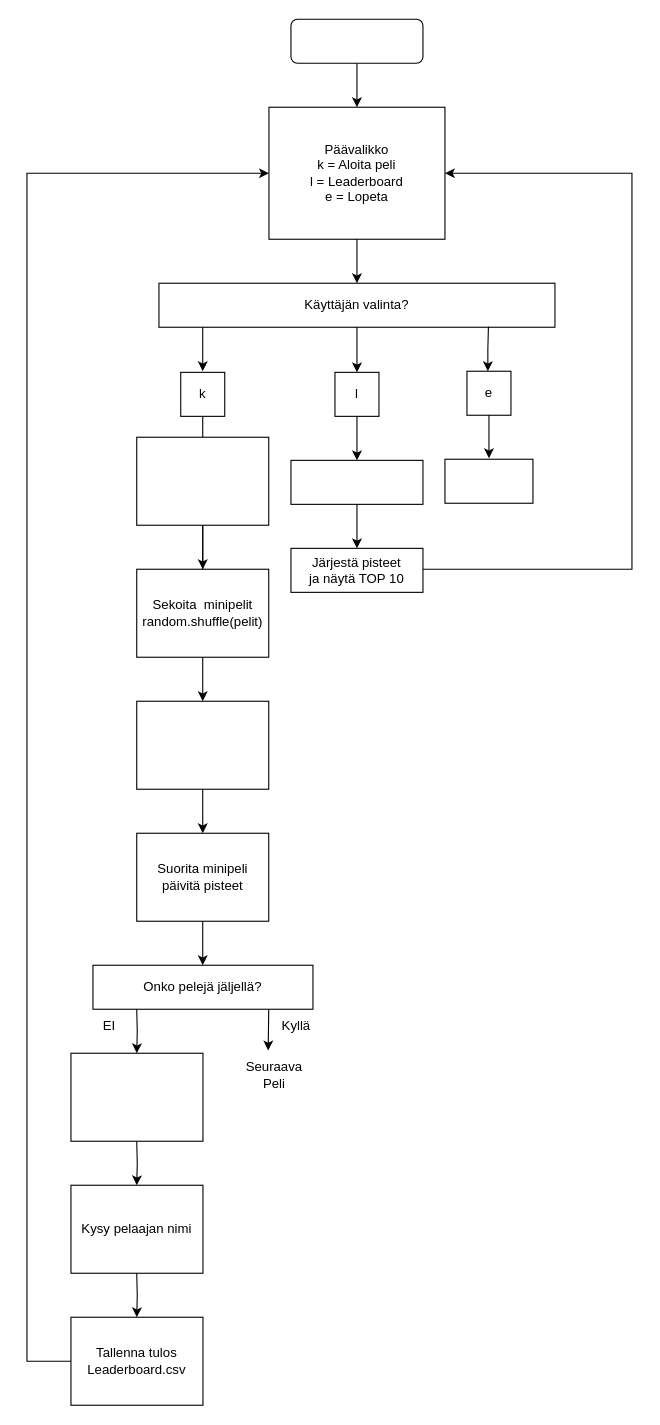
This 660x1425 diagram has some shape labels left out. Each missing label, with the centre of its shape:
"Alku" goes at pixel 356 40.
"Aloita pelisessio pisteet = 0 bonus = 0" goes at pixel 202 480.
"Käy kaikki pelit läpi for pelifunktio in pelit" goes at pixel 202 744.
"Laske lopputulos ajan perusteella" goes at pixel 136 1096.
"Loppu" goes at pixel 488 480.
"Lue leaderboard.csv" goes at pixel 356 481.
